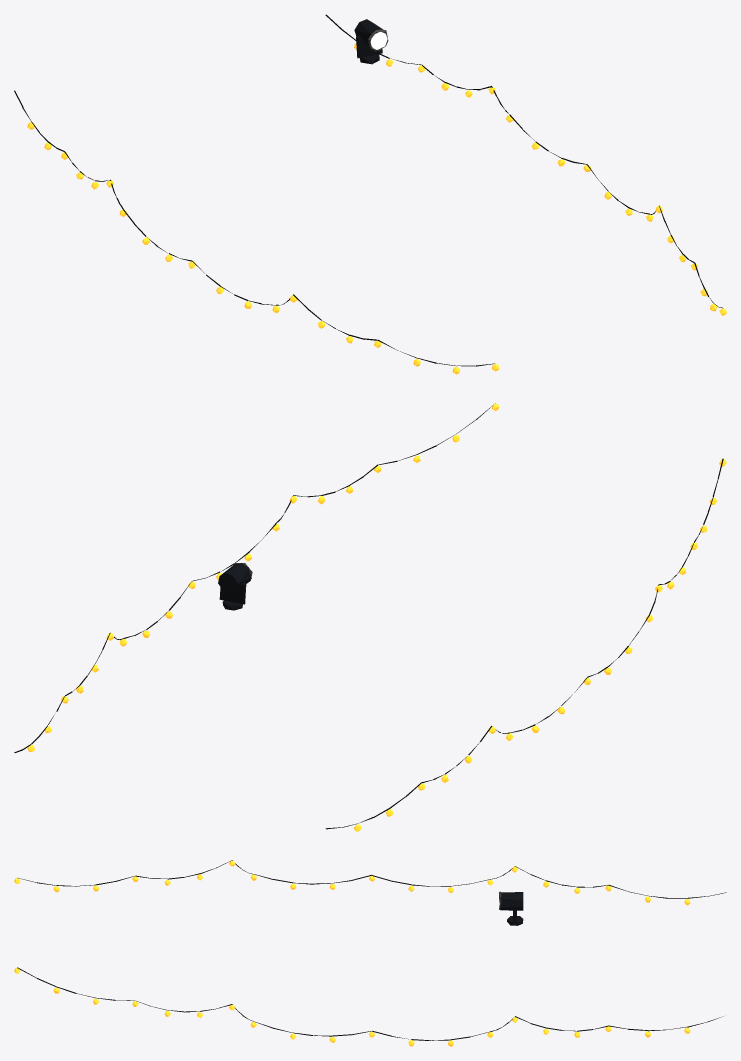
Rendered from tb_upg_deck_lights.three-web-toon.lod50.glb.
The picture shows the model from 3 angles, top to bottom: view 1: azimuth 30°, elevation 25°; view 2: azimuth 150°, elevation 25°; view 3: azimuth 270°, elevation 25°; orthographic projection. The views are drawn at different scales.
Parts seen in each view (by area): view 1: deck_lights_strings_lod, deck_spotlight_lod; view 2: deck_lights_strings_lod, deck_spotlight_lod; view 3: deck_lights_strings_lod, deck_spotlight_lod.
Boxes of the visible parts, <box> form: deck_lights_strings_lod: <box>14,14,726,374</box>; deck_spotlight_lod: <box>354,19,388,64</box>; deck_lights_strings_lod: <box>14,403,726,831</box>; deck_spotlight_lod: <box>218,563,252,610</box>; deck_lights_strings_lod: <box>14,860,726,1046</box>; deck_spotlight_lod: <box>498,891,523,925</box>.
Size of the model in its own units: 3.65 by 1.12 by 6.96.
